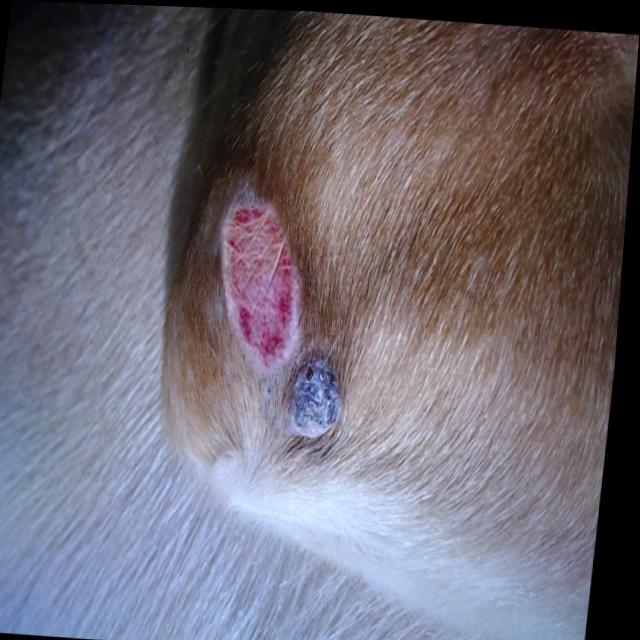ringworm: (189, 140, 331, 391)
